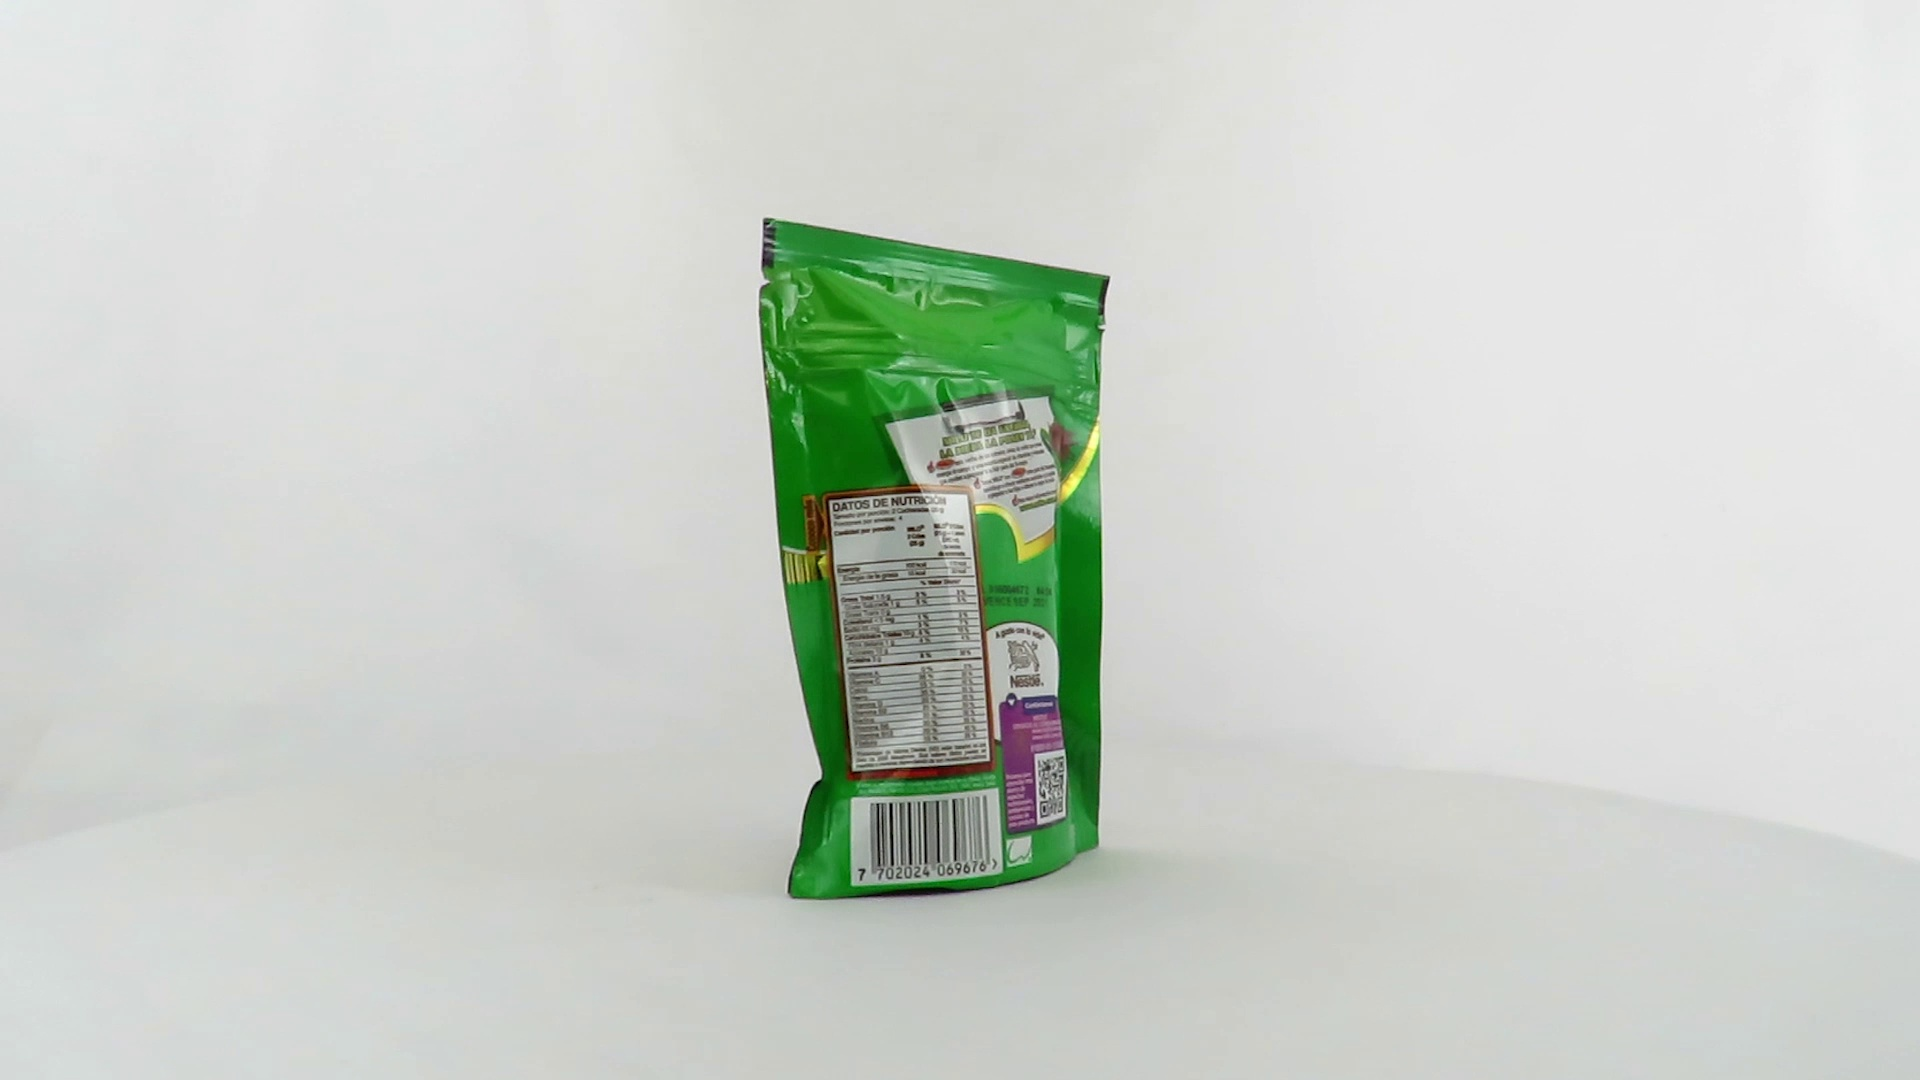COL0170203DYP10000: (753, 214, 1116, 907)
